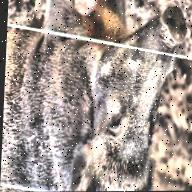boar: (4, 3, 192, 192)
